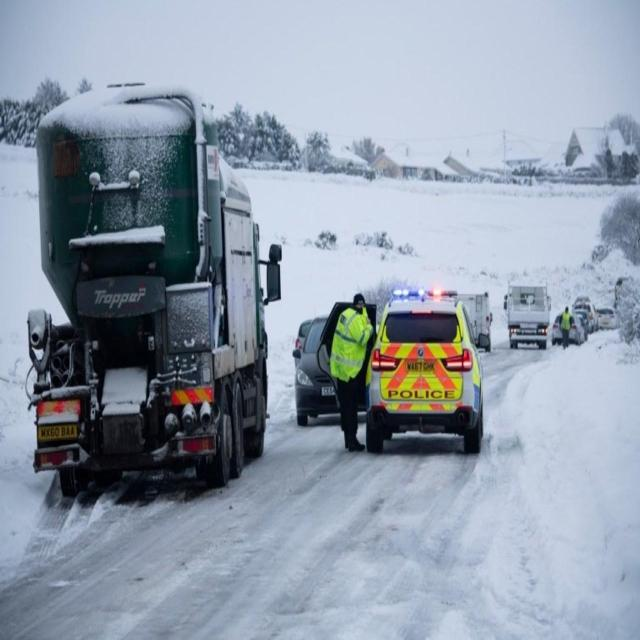Car: (370, 278, 486, 455), (293, 302, 368, 434)
Truck: (18, 75, 287, 507), (503, 265, 555, 360), (448, 271, 495, 347)
